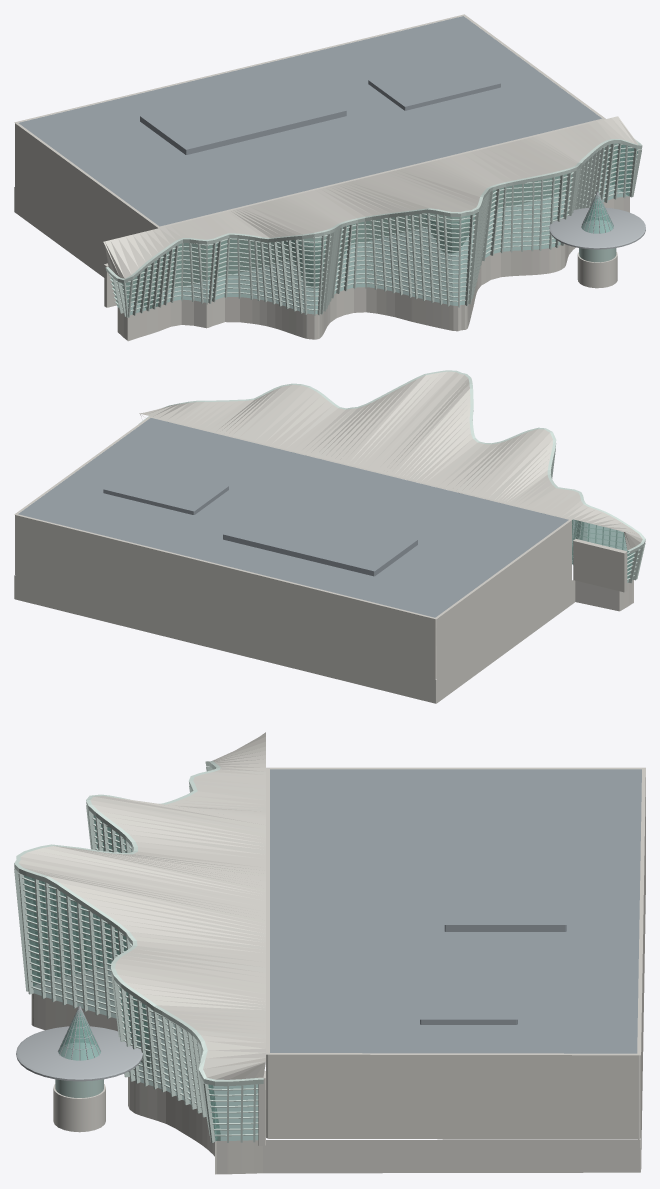
The model's file is tokyo-national-art-center.detail.glb.
3 views of the same model, one above another, from view 1: azimuth 30°, elevation 25°; view 2: azimuth 150°, elevation 25°; view 3: azimuth 270°, elevation 25° (orthographic). The views are drawn at different scales.
Visible parts, largest first — view 1: The National Art Center, Tokyo; view 2: The National Art Center, Tokyo; view 3: The National Art Center, Tokyo.
Boxes of the visible parts, box(x1,y1,x2,y2) form: The National Art Center, Tokyo: box(14, 14, 645, 341); The National Art Center, Tokyo: box(14, 370, 645, 703); The National Art Center, Tokyo: box(14, 732, 645, 1174).
Size of the model in its own units: 161 by 36.5 by 129.
